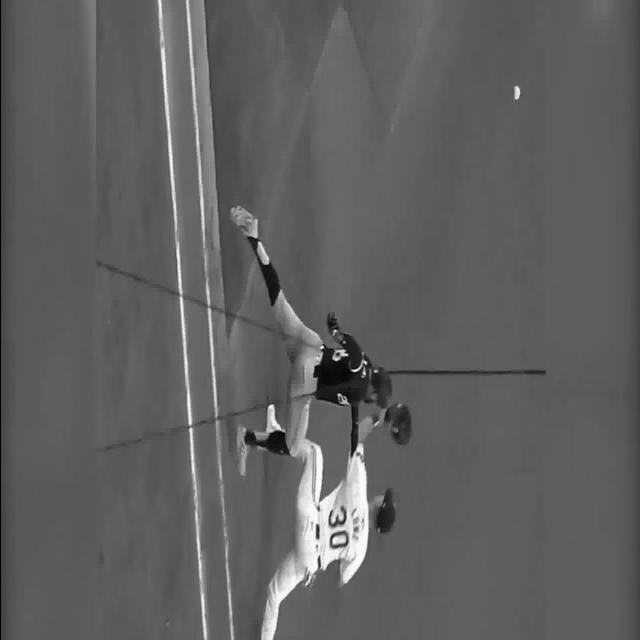baseball: (512, 85, 520, 100)
baseball_glove: (384, 401, 412, 445)
shoe: (229, 204, 258, 238), (264, 404, 282, 454), (247, 236, 270, 266), (236, 424, 248, 476)
